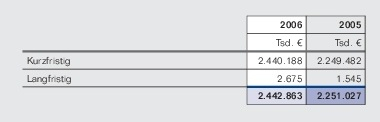table: (0, 0, 380, 122)
